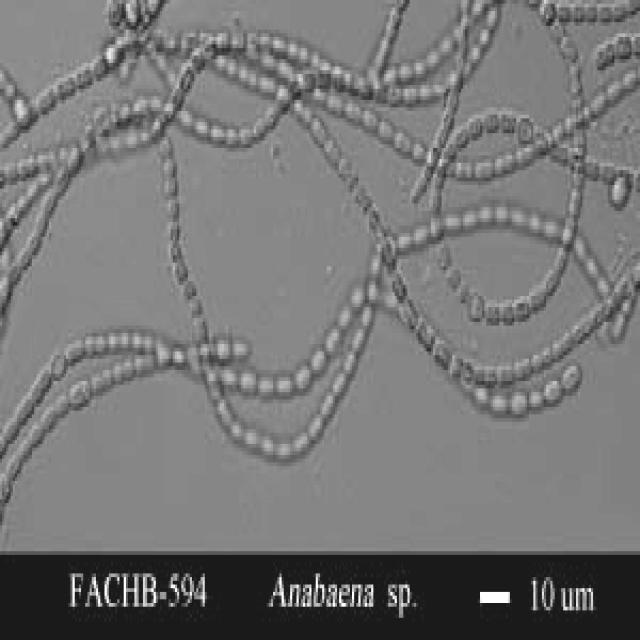Blue Green Algae: (559, 359, 580, 396), (292, 359, 314, 392), (431, 333, 450, 370), (491, 385, 512, 418), (527, 281, 546, 315), (612, 30, 634, 59), (237, 366, 258, 396), (262, 96, 280, 130), (13, 396, 34, 425), (68, 381, 88, 411), (394, 122, 412, 155), (484, 296, 502, 329), (452, 126, 472, 155), (275, 366, 292, 400), (416, 310, 431, 348), (412, 218, 431, 248), (380, 237, 394, 277), (256, 370, 275, 399), (322, 326, 341, 355), (49, 166, 70, 192), (474, 156, 495, 182), (130, 355, 154, 377), (310, 111, 326, 144), (516, 115, 534, 144), (66, 144, 83, 174), (41, 403, 58, 433), (275, 429, 292, 459), (339, 155, 356, 185), (307, 407, 322, 440), (75, 63, 94, 89), (542, 381, 561, 407), (294, 425, 310, 455), (376, 111, 392, 141), (584, 156, 602, 182), (478, 203, 495, 230), (2, 418, 17, 448), (239, 122, 254, 152), (177, 63, 194, 89), (320, 388, 337, 414), (514, 355, 531, 381), (512, 388, 529, 414), (444, 85, 461, 111), (446, 211, 463, 237), (574, 229, 587, 263), (64, 340, 87, 359), (222, 363, 237, 392), (608, 78, 623, 107), (170, 81, 186, 108), (209, 370, 222, 403), (339, 296, 352, 329), (501, 296, 514, 329), (586, 255, 600, 285), (34, 89, 53, 111), (540, 4, 559, 26), (40, 188, 56, 214), (26, 230, 42, 256), (360, 104, 376, 130), (92, 56, 106, 85), (6, 448, 20, 477), (570, 63, 584, 92), (401, 81, 416, 108), (495, 203, 510, 230), (312, 344, 324, 377), (30, 377, 43, 407), (333, 370, 348, 396), (391, 266, 404, 296), (403, 296, 416, 326), (209, 118, 224, 144), (499, 107, 514, 133), (467, 114, 482, 140), (546, 262, 561, 288), (34, 211, 51, 233), (162, 152, 179, 174), (162, 174, 179, 196), (326, 133, 337, 167), (497, 362, 514, 384), (512, 296, 529, 318), (182, 29, 198, 52), (168, 192, 182, 218), (602, 156, 616, 182), (474, 381, 488, 407), (56, 74, 72, 96), (54, 396, 70, 418), (166, 218, 182, 240), (162, 29, 177, 52), (352, 329, 367, 352), (529, 388, 544, 411), (30, 418, 43, 444), (194, 318, 207, 344), (17, 248, 32, 270), (224, 118, 239, 140), (484, 108, 499, 130), (591, 92, 608, 111), (346, 96, 358, 122), (328, 89, 342, 111), (218, 337, 230, 362), (230, 29, 243, 52), (232, 337, 248, 355), (448, 263, 461, 285), (17, 152, 36, 166), (344, 352, 356, 374), (600, 41, 612, 63), (21, 436, 32, 458), (431, 185, 442, 207), (184, 278, 194, 300), (175, 255, 183, 281), (595, 40, 602, 66)
